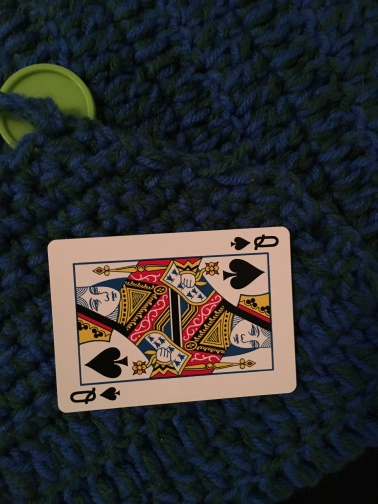queen: (44, 225, 297, 413)
